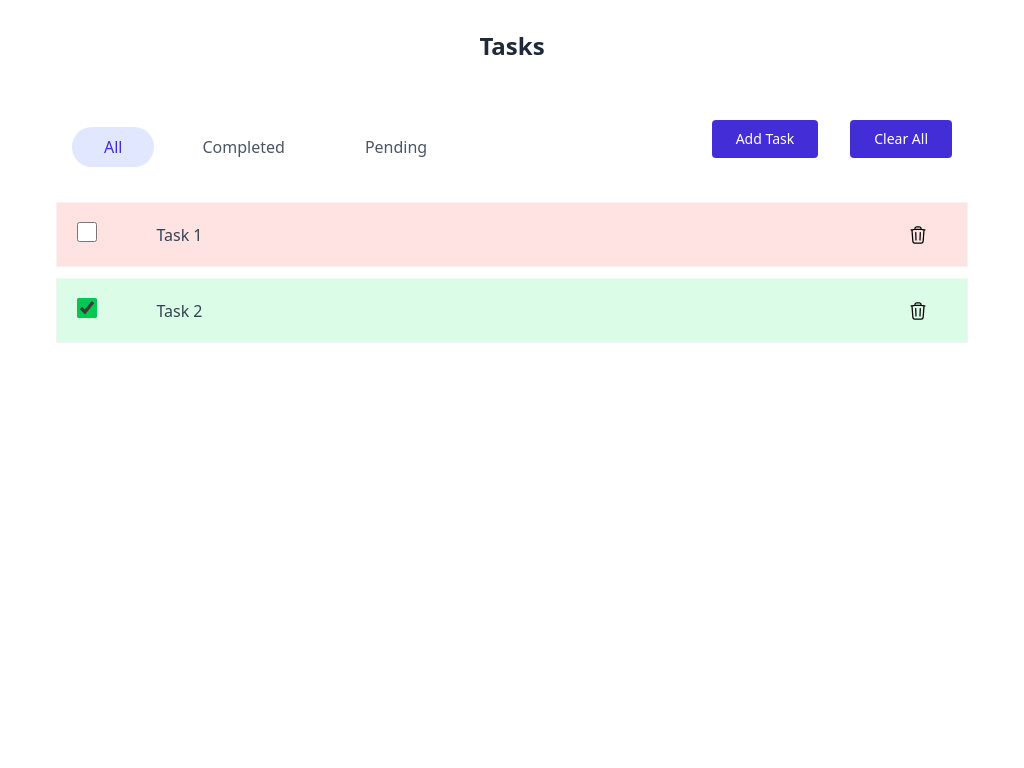
Scenario: TaskList Component › opens add task modal
Click the button "Add Task".
click(765, 139)  # box [712, 120, 818, 158]
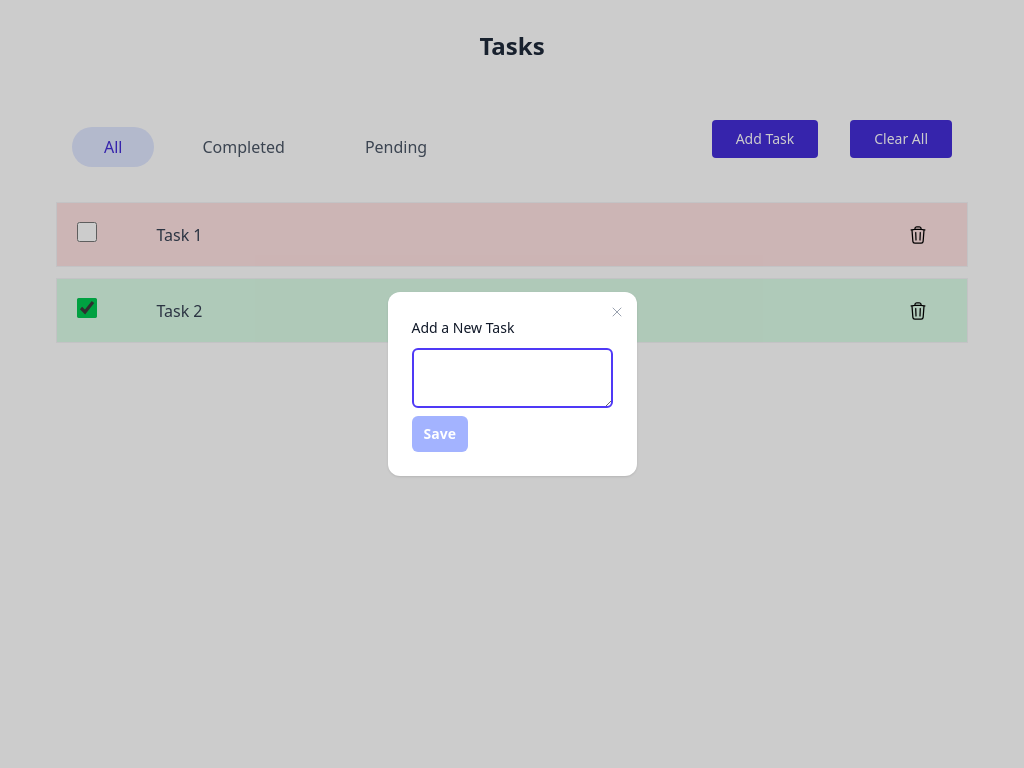
Expected: the text "Add a New Task" is shown, [412, 318, 514, 337]
